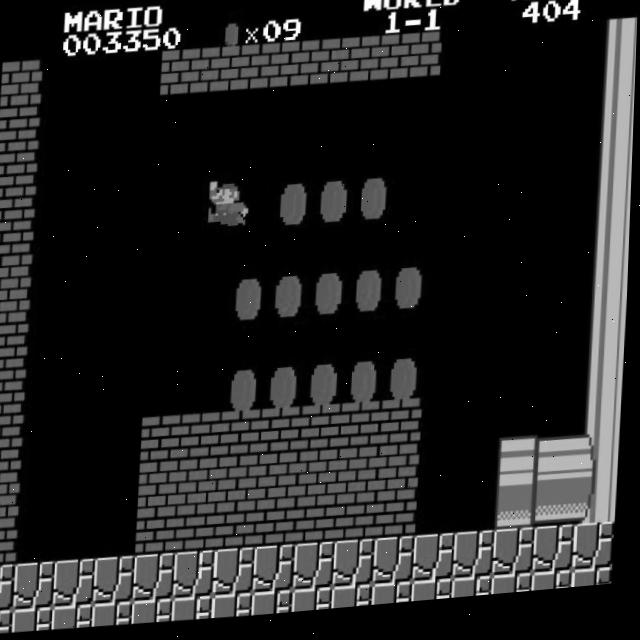1- brick_block: (138, 509, 182, 559), (178, 506, 222, 556), (218, 505, 262, 555), (258, 502, 302, 552), (338, 498, 382, 548), (378, 496, 422, 546), (298, 501, 342, 550), (382, 405, 426, 454), (0, 59, 43, 109), (160, 51, 203, 101), (141, 463, 184, 513), (200, 49, 243, 99), (181, 461, 224, 511), (240, 47, 283, 97), (221, 459, 264, 509), (280, 45, 323, 95), (261, 457, 304, 507), (320, 43, 363, 93), (301, 455, 344, 505), (360, 41, 403, 91), (341, 453, 384, 503), (400, 39, 443, 89), (381, 450, 424, 500), (143, 418, 186, 467), (183, 415, 226, 464), (263, 411, 306, 460), (303, 409, 346, 458), (343, 407, 386, 456), (223, 414, 266, 462), (0, 105, 40, 154), (0, 151, 39, 200), (0, 197, 36, 246), (0, 243, 34, 292), (0, 288, 32, 337), (0, 333, 30, 383), (0, 379, 28, 429), (0, 425, 26, 474), (0, 471, 23, 520), (0, 516, 21, 566)
11- little_mario: (206, 180, 252, 233)
14- pipe: (538, 488, 582, 538), (584, 348, 628, 398), (541, 442, 584, 492), (590, 210, 633, 260), (586, 302, 629, 352), (578, 485, 621, 535), (588, 256, 631, 305), (582, 394, 625, 443), (580, 440, 623, 489), (593, 164, 634, 214), (596, 74, 637, 123), (595, 119, 635, 168), (599, 28, 638, 78)
15- pipe_head: (498, 490, 542, 540), (501, 444, 544, 494)
17- undestructible_block: (16, 561, 60, 611), (56, 559, 100, 609), (575, 531, 619, 581), (96, 557, 139, 607), (136, 555, 179, 605), (176, 552, 219, 602), (216, 551, 259, 601), (256, 548, 299, 598), (296, 547, 339, 597), (336, 544, 379, 594), (376, 542, 419, 592), (416, 540, 459, 590), (456, 538, 499, 588), (496, 536, 539, 586), (536, 534, 579, 584), (15, 607, 57, 634), (55, 604, 97, 631), (95, 603, 137, 630), (135, 600, 177, 627), (175, 598, 217, 625), (215, 596, 257, 623), (255, 594, 297, 621), (295, 592, 337, 618), (335, 589, 377, 615), (375, 588, 417, 612), (415, 586, 457, 610), (455, 583, 497, 607), (0, 562, 20, 612), (495, 581, 537, 604), (535, 579, 577, 601), (574, 577, 616, 599), (0, 609, 16, 634)
2- coin: (273, 182, 317, 231), (313, 181, 357, 230), (229, 276, 272, 326), (225, 367, 268, 417), (265, 365, 308, 415), (309, 272, 352, 322), (305, 363, 348, 413), (349, 269, 392, 319), (345, 361, 388, 411), (389, 267, 432, 317), (385, 359, 428, 409), (269, 274, 312, 323), (353, 178, 396, 227)
